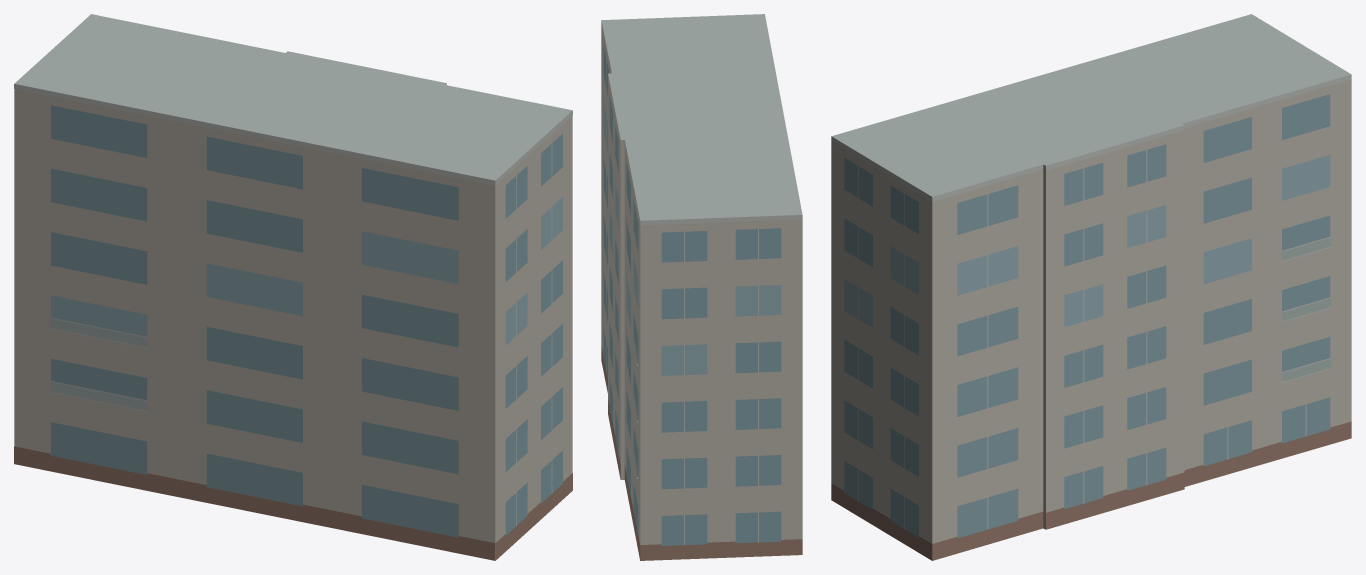
File: survey-upis-32932229.glb
3 views of the same model, side by side, from view 1: azimuth 30°, elevation 25°; view 2: azimuth 150°, elevation 25°; view 3: azimuth 270°, elevation 25° (orthographic). The views are drawn at different scales.
Parts seen in each view (by area): view 1: survey-upis-32932229.tmp; view 2: survey-upis-32932229.tmp; view 3: survey-upis-32932229.tmp.
Part boxes in pixels (x1,y1,x2,y2): survey-upis-32932229.tmp: (14,14,572,560); survey-upis-32932229.tmp: (601,14,802,560); survey-upis-32932229.tmp: (831,14,1351,560).
Bounding box in the file's own units: 19.74 × 18.3 × 23.71.
